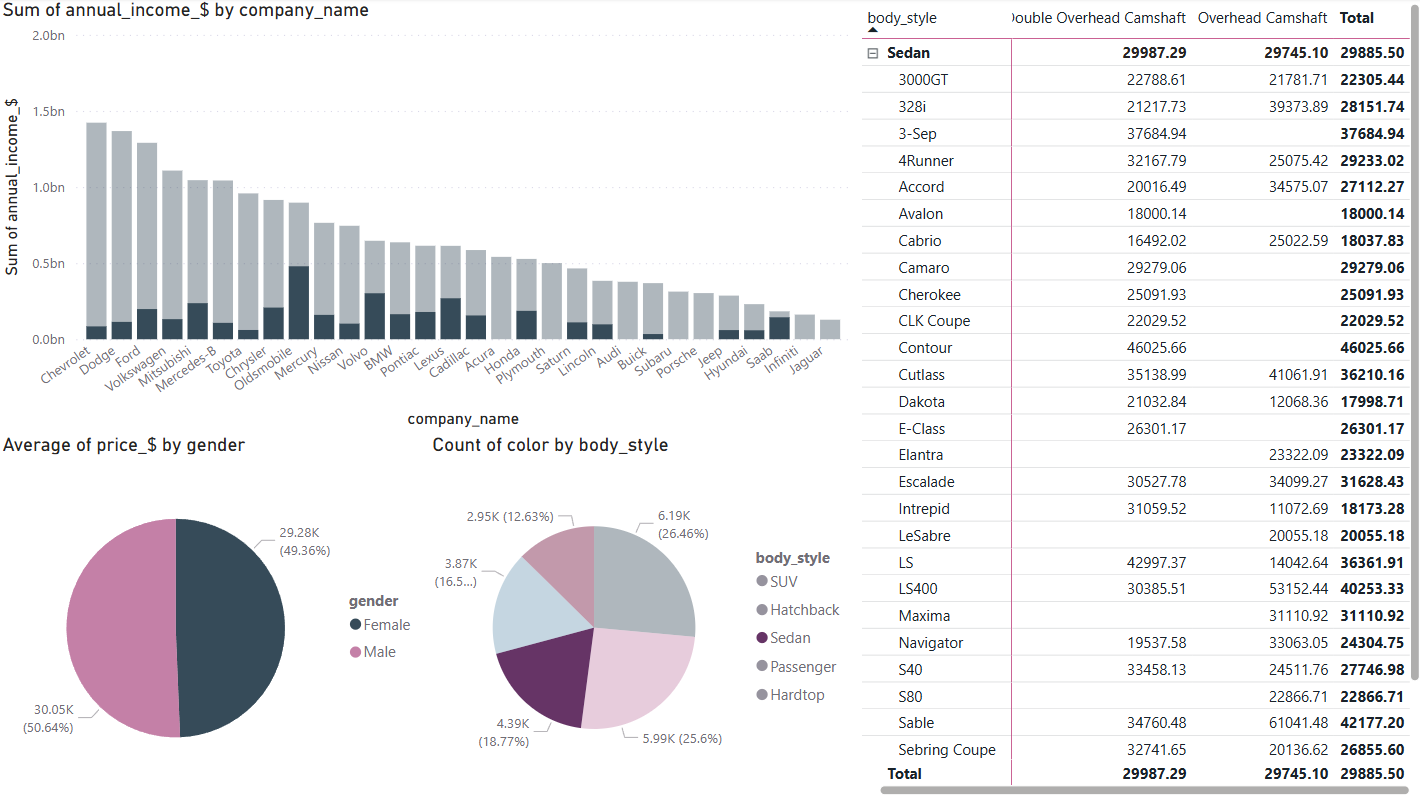

This screenshot's page, from the dashboard's own definition file:
{"tool":"powerbi","page":{"name":"Page 1","canvas":[1280,720],"ordinal":0},"visuals":[{"type":"pieChart","fields":{"Category":["golden_data.gender"],"Y":["Avg(golden_data.price_$)"]},"box":[0,389.6,385.1,330.4],"z":0},{"type":"pivotTable","fields":{"Rows":["golden_data.body_style","golden_data.model"],"Columns":["golden_data.engine"],"Values":["Avg(golden_data.price_$)"]},"box":[769.3,0,510.4,719.1],"z":1},{"type":"actionButton","box":[0,0,100,40],"z":2},{"type":"columnChart","fields":{"Category":["golden_data.company_name"],"Y":["Sum(golden_data.annual_income_$)"]},"box":[0,0,769.3,389.6],"z":3},{"type":"pieChart","fields":{"Category":["golden_data.body_style"],"Y":["CountNonNull(golden_data.color)"]},"box":[385.1,389.6,384.2,329.6],"z":4}]}

Visuals, with their boxes in screenshot pixels (x1, y1, x2, y2), scaled from the page's 1280x720 canvas onto the 1420x796 screenshot:
pieChart - golden_data.gender x Avg(golden_data.price_$): crop(0, 431, 427, 795)
pivotTable - golden_data.body_style x golden_data.model: crop(853, 0, 1419, 795)
actionButton: crop(0, 0, 111, 44)
columnChart - golden_data.company_name x Sum(golden_data.annual_income_$): crop(0, 0, 853, 431)
pieChart - golden_data.body_style x CountNonNull(golden_data.color): crop(427, 431, 853, 795)
